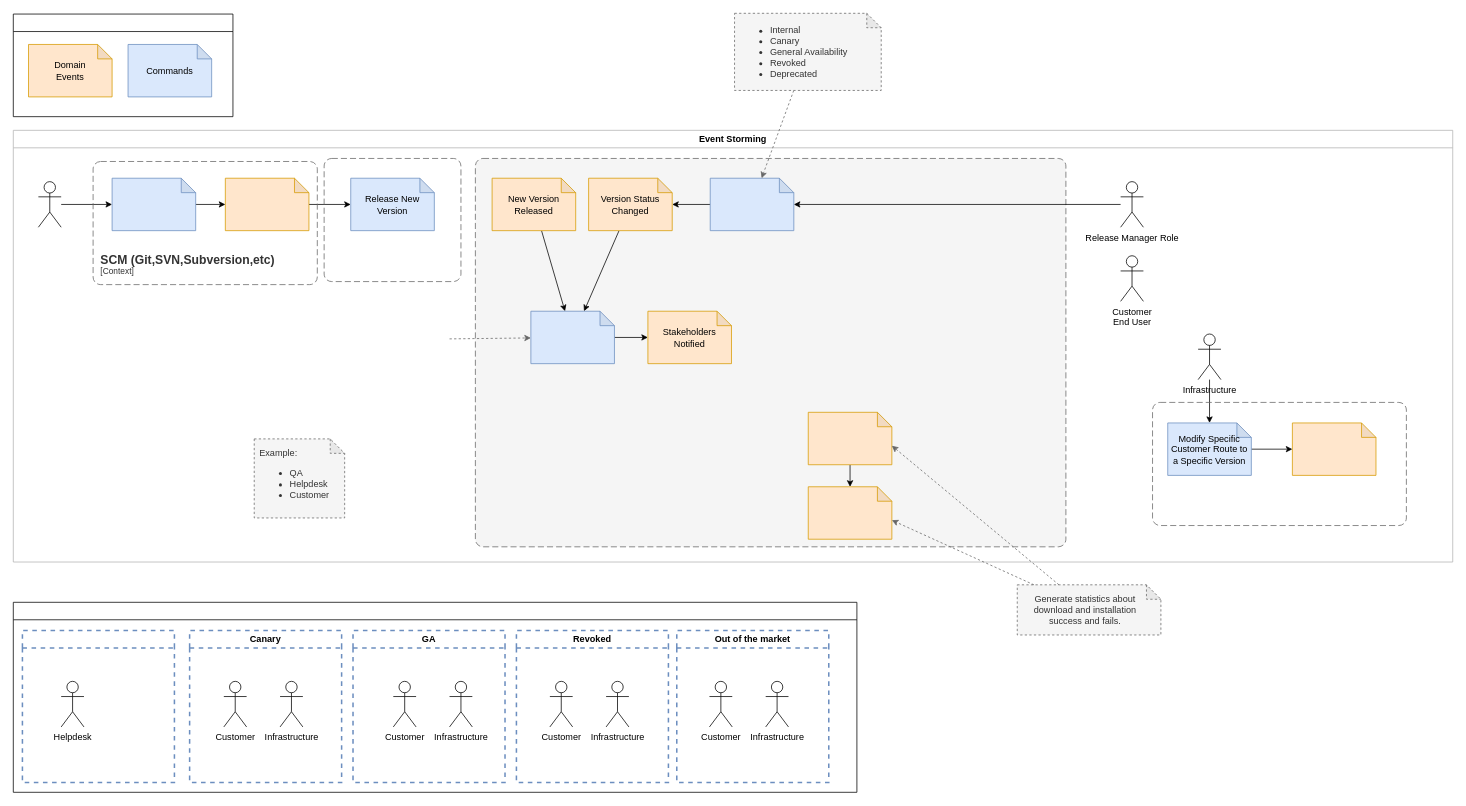
The diagram is 1466 pixels wide and 806 high, and some of its shapes have lost their labels. The shapes that lost their labels are listed below. From the top down, each one's box as (x1, y1, x2, y2) in pixels, then its label:
(13, 13, 233, 117): Legend
(38, 181, 61, 227): Development Team
(111, 177, 196, 231): Merge Request
(225, 177, 309, 231): Code Merged to a Branch
(323, 158, 461, 282): Delivery (CI/CD Tool) [Context]
(709, 177, 794, 231): Promote Version Status
(530, 310, 614, 364): Notify Stakeholders
(475, 158, 1066, 547): Release Manager [Delivery Context]
(808, 412, 892, 465): Customer Sucessfully Installed
(1292, 422, 1376, 475): Route Modified
(1152, 402, 1406, 526): Router, Load Balancer, API Gateway, etc [Bounded Context]
(808, 486, 892, 539): Customer Not Installed
(21, 629, 175, 783): Internal
(13, 602, 857, 792): Notification Landscape
